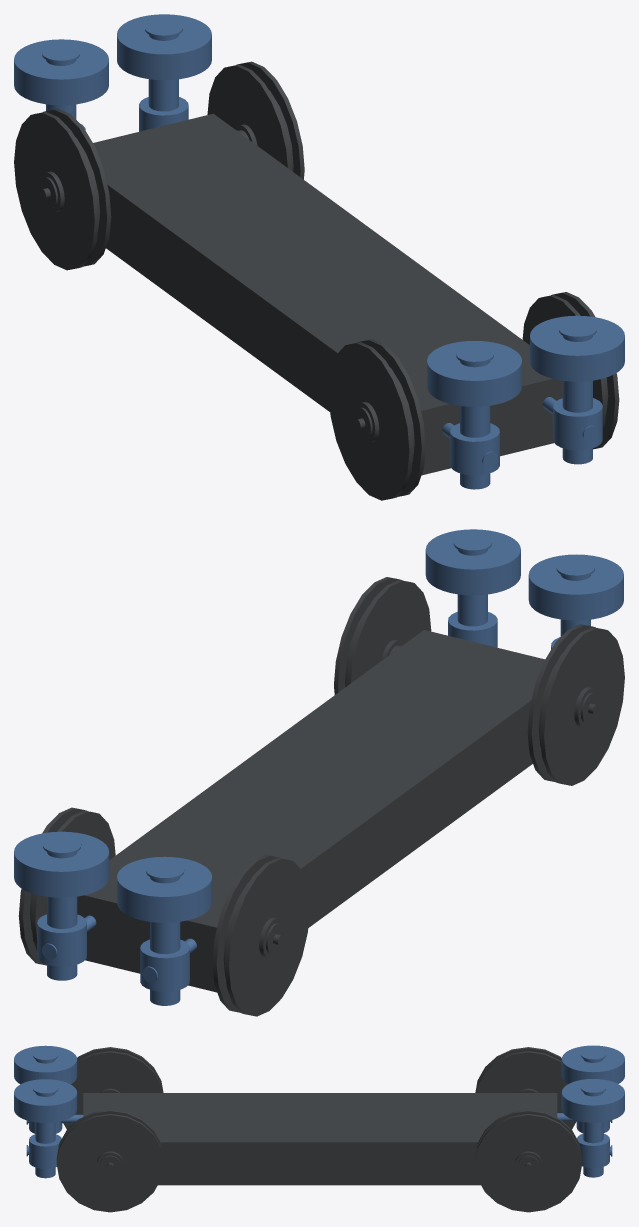
Rendered from body1.FBX.
The picture shows the model from 3 angles, top to bottom: view 1: azimuth 30°, elevation 25°; view 2: azimuth 150°, elevation 25°; view 3: azimuth 270°, elevation 25°; orthographic projection. The views are drawn at different scales.
Parts seen in each view (by area): view 1: top_roll; view 2: top_roll; view 3: top_roll.
Part boxes in pixels (<box>): top_roll: <box>14,14,624,500</box>; top_roll: <box>14,529,624,1016</box>; top_roll: <box>14,1045,624,1212</box>.
Size of the model in its own units: 22.2 by 14.89 by 76.13.
